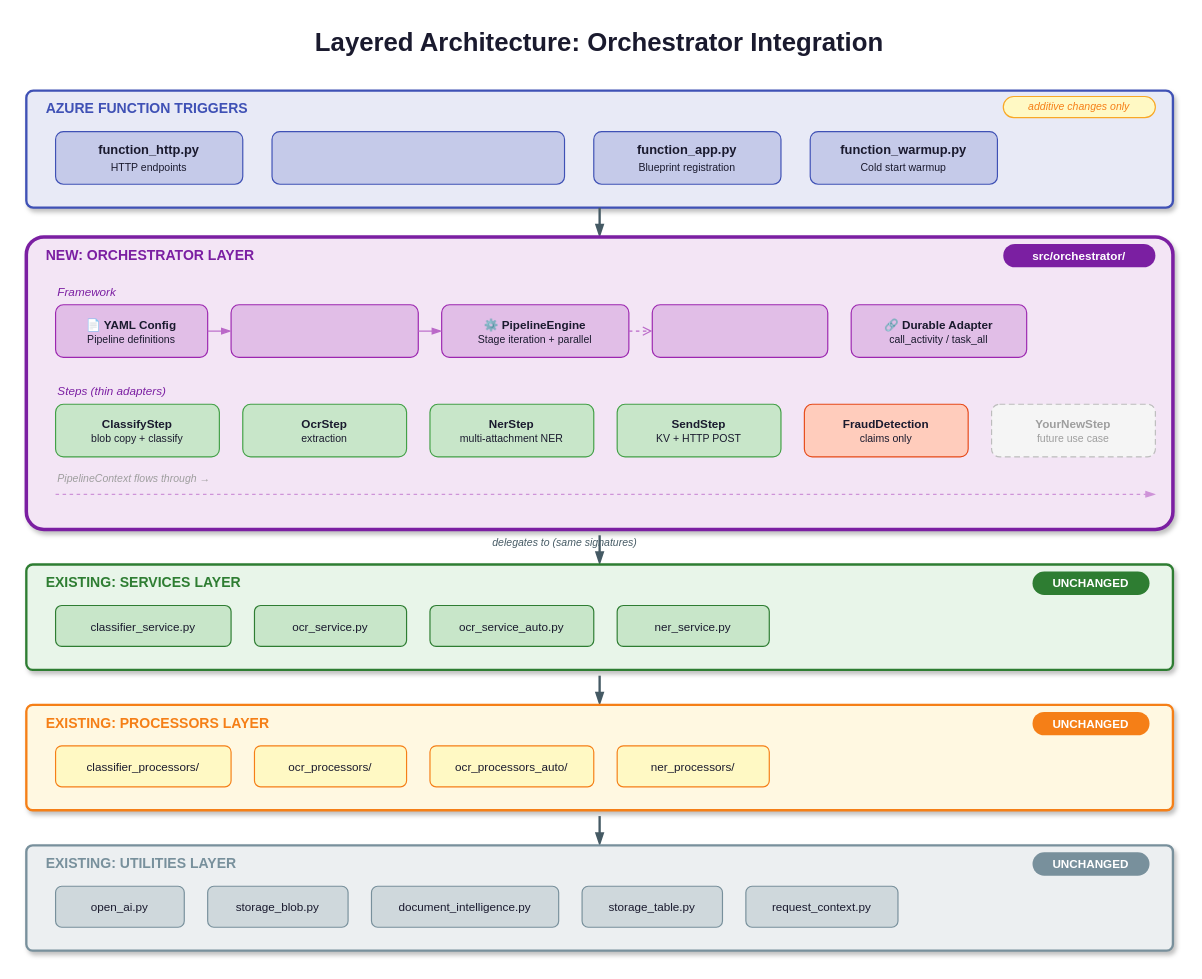
This 1202x979 diagram has some shape labels left out. The shapes that lost their labels are listed below. From the top down, each one's centre as x and y in pixels, then its label:
At pixel 418 157: "function_queue_durable.py Queue trigger + durable orchestration".
At pixel 324 330: "🏭 PipelineFactory YAML → PipelineDefinition".
At pixel 739 330: "📋 StepRegistry (name, version) → class".
